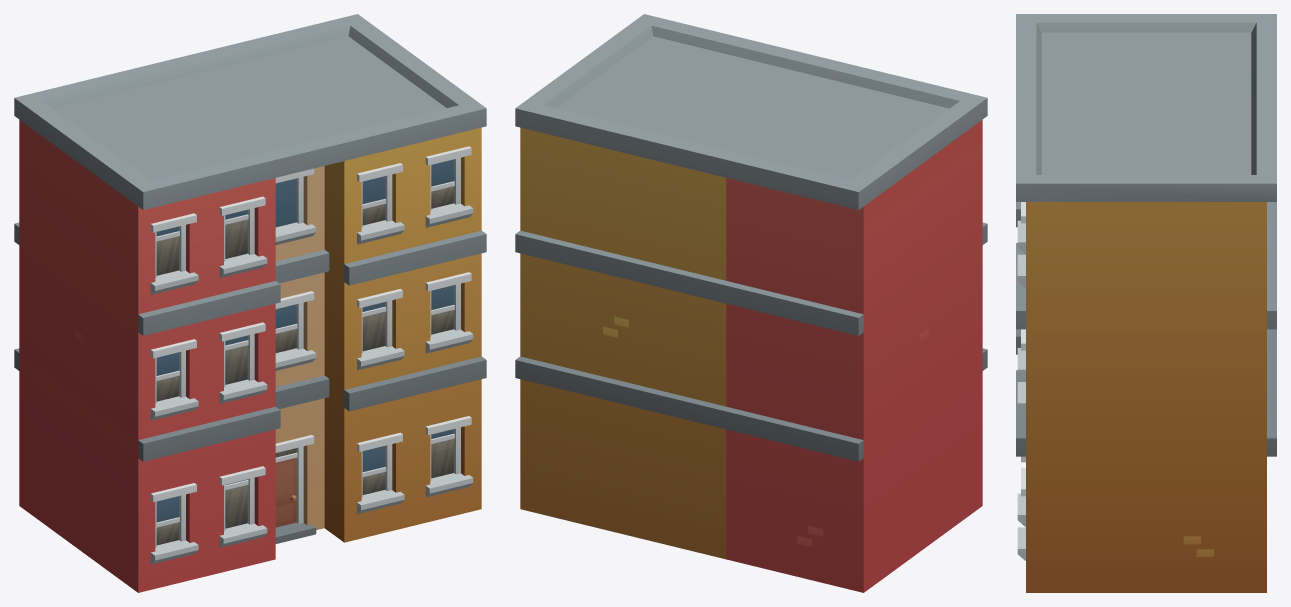
File: city-f.glb
3 views of the same model, side by side, from view 1: azimuth 30°, elevation 25°; view 2: azimuth 150°, elevation 25°; view 3: azimuth 270°, elevation 25° (orthographic).
Visible parts, largest first — view 1: building_F_withoutBase; view 2: building_F_withoutBase; view 3: building_F_withoutBase.
Part boxes in pixels (x1=…): building_F_withoutBase: x1=14, y1=14, x2=486, y2=592; building_F_withoutBase: x1=515, y1=14, x2=987, y2=592; building_F_withoutBase: x1=1016, y1=14, x2=1276, y2=592.
Bounding box in the file's own units: 2.01 × 2.25 × 1.3.
1 material, 1 textured.
